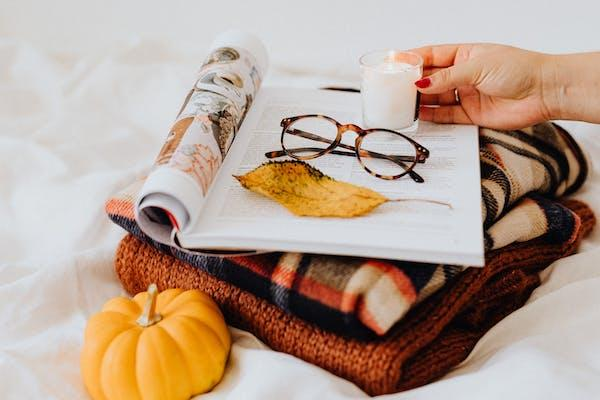eyeglasses: (270, 93, 439, 194)
